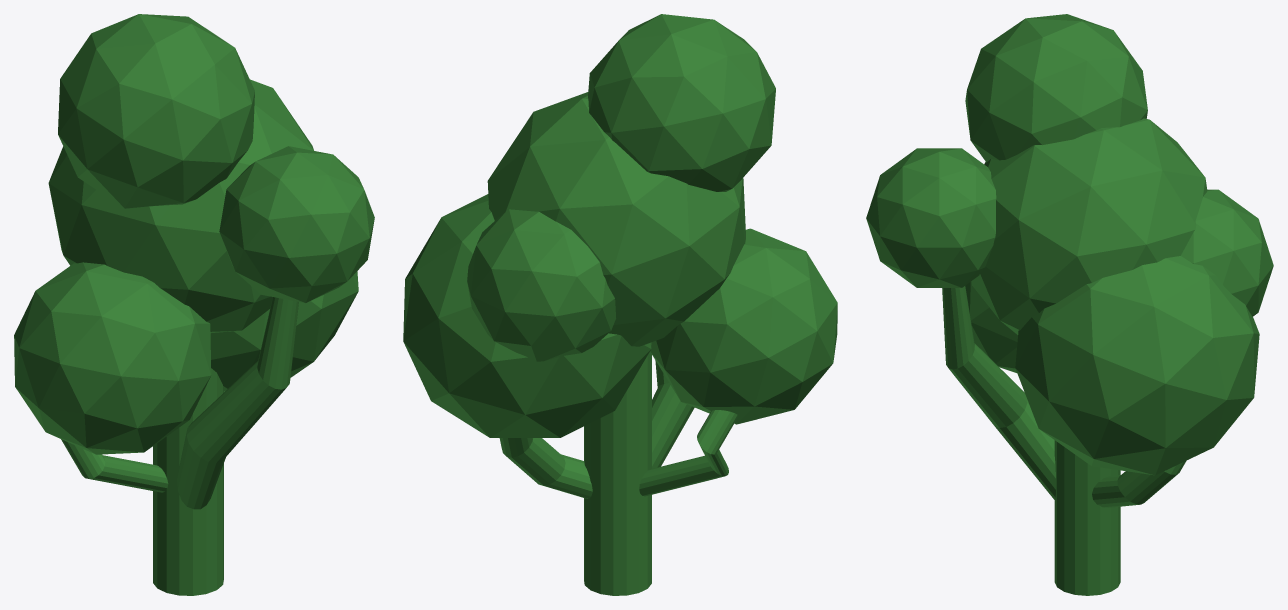
The model's file is Tree.fbx.
3 renders of one model, left to right at view 1: azimuth 30°, elevation 25°; view 2: azimuth 150°, elevation 25°; view 3: azimuth 270°, elevation 25°, orthographic. The views are drawn at different scales.
Visible parts, largest first — view 1: Cylinder.001; view 2: Cylinder.001; view 3: Cylinder.001.
Boxes of the visible parts, x1,y1,x2,y2 form: Cylinder.001: [14, 14, 374, 595]; Cylinder.001: [403, 14, 837, 595]; Cylinder.001: [866, 14, 1273, 595].
Bounding box in the file's own units: 629 × 949 × 653.
